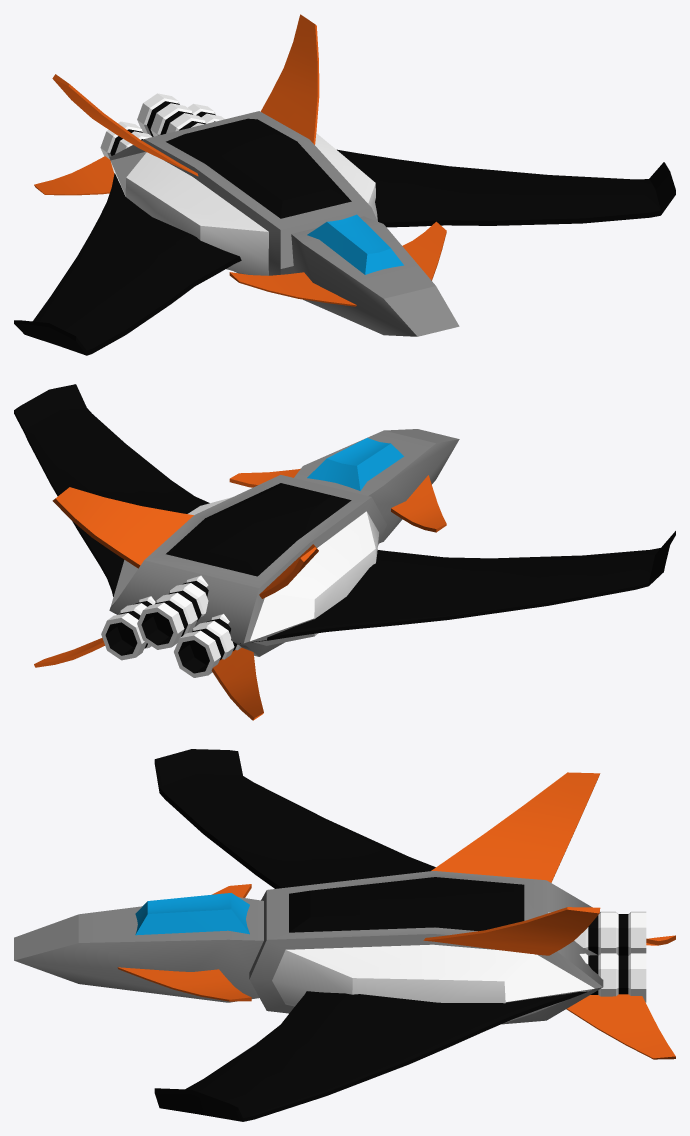
File: Modules_Spaceship_2.fbx
The picture shows the model from 3 angles, top to bottom: view 1: azimuth 30°, elevation 25°; view 2: azimuth 150°, elevation 25°; view 3: azimuth 270°, elevation 25°; orthographic projection. The views are drawn at different scales.
Visible parts, largest first — view 1: Wind, pCube2, pCube3, pPlane2, pPlane1, pCube1, Engine, pPlane3, Engine.002; view 2: Wind, pCube2, pPlane2, pCube3, Engine, pPlane3, pCube1, Engine.002, pPlane1, Engine.001; view 3: Wind, pCube2, pCube3, pPlane2, pPlane3, pCube1, pPlane1, Engine, Engine.001.
Boxes of the visible parts, <box> form: Wind: <box>14,149,675,355</box>; pCube2: <box>109,111,377,275</box>; pCube3: <box>291,216,459,336</box>; pPlane2: <box>52,14,319,176</box>; pPlane1: <box>229,221,446,306</box>; pCube1: <box>307,214,403,274</box>; Engine: <box>137,93,206,136</box>; pPlane3: <box>34,156,114,195</box>; Engine.002: <box>100,121,152,159</box>; Wind: <box>14,384,675,643</box>; pCube2: <box>109,475,386,656</box>; pPlane2: <box>52,487,318,598</box>; pCube3: <box>294,429,459,543</box>; Engine: <box>137,575,208,649</box>; pPlane3: <box>34,638,263,720</box>; pCube1: <box>307,437,403,490</box>; Engine.002: <box>174,614,241,677</box>; pPlane1: <box>229,468,446,532</box>; Engine.001: <box>101,596,155,660</box>; Wind: <box>154,749,587,1121</box>; pCube2: <box>249,871,603,1024</box>; pCube3: <box>14,897,263,1002</box>; pPlane2: <box>423,772,600,955</box>; pPlane3: <box>566,935,675,1059</box>; pCube1: <box>135,893,249,935</box>; pPlane1: <box>117,884,251,1001</box>; Engine: <box>548,911,646,955</box>; Engine.001: <box>579,953,646,1002</box>.
Size of the model in its own units: 543 by 113 by 426.
